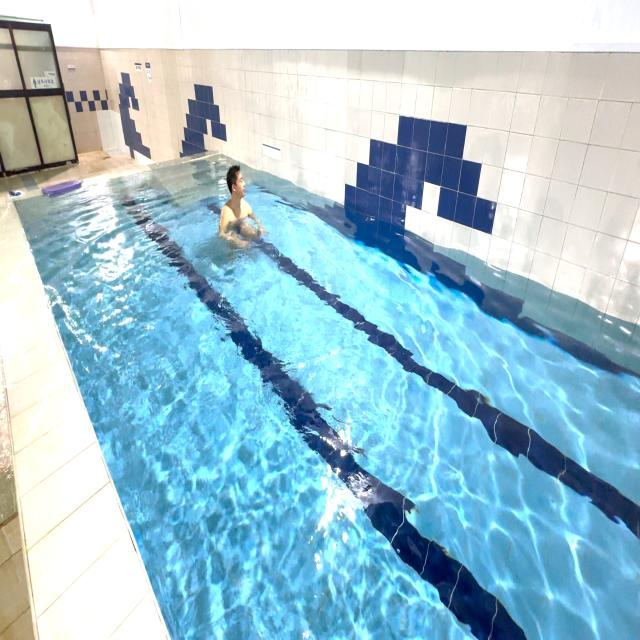Swimming: (210, 150, 270, 261)
